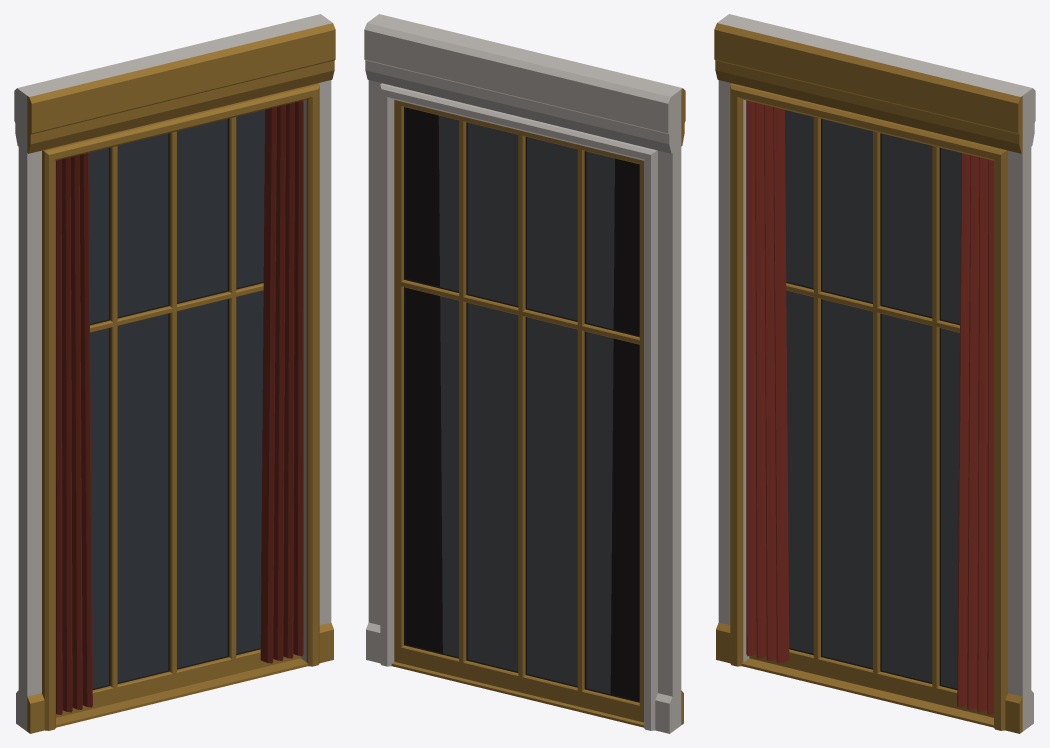
Rendered from suite-window-bay-39dae9.glb.
3 renders of one model, left to right at view 1: azimuth 30°, elevation 25°; view 2: azimuth 150°, elevation 25°; view 3: azimuth 330°, elevation 25°, orthographic.
Parts seen in each view (by area): view 1: window-wall, window-glass; view 2: window-glass, window-wall; view 3: window-wall, window-glass.
Part boxes in pixels (<box>): window-wall: <box>14,14,335,733</box>; window-glass: <box>88,110,264,689</box>; window-glass: <box>404,107,639,702</box>; window-wall: <box>364,14,685,733</box>; window-wall: <box>714,14,1035,733</box>; window-glass: <box>785,110,961,689</box>.
Size of the model in its own units: 2 by 4 by 0.2.
